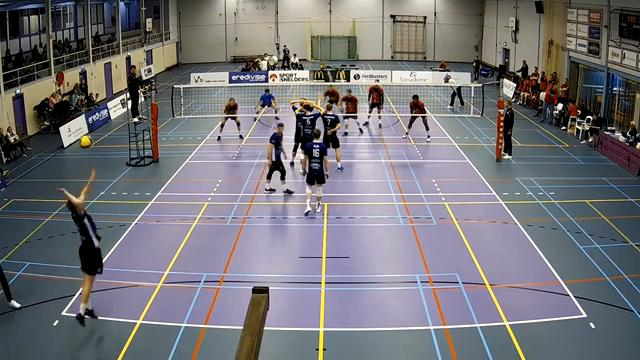battuta: (48, 168, 108, 329)
